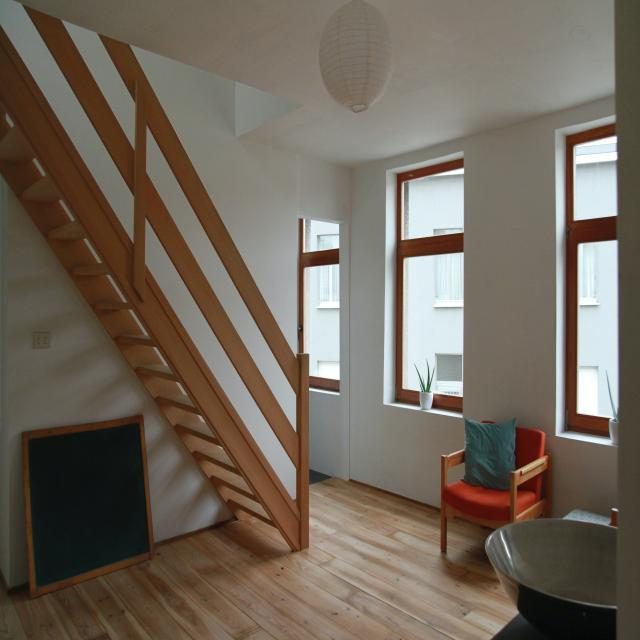floor: (0, 469, 519, 640), (491, 565, 519, 612)
